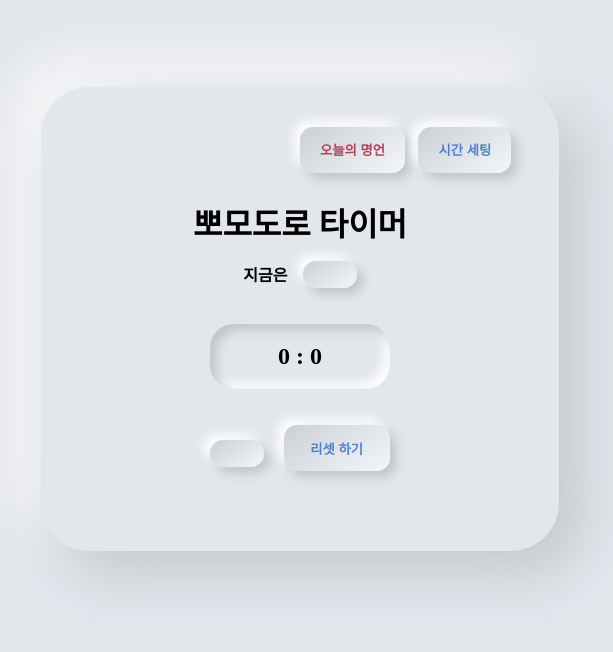
it: App 시간 세팅 버튼이 잘 눌리나 확인하자.
This screenshot has width=613, height=652.
Expected: the heading "뽀모도로 타이머" is shown, [193,207,407,243]
Click the button "시간 세팅": point(465, 150) [418,127,511,173]
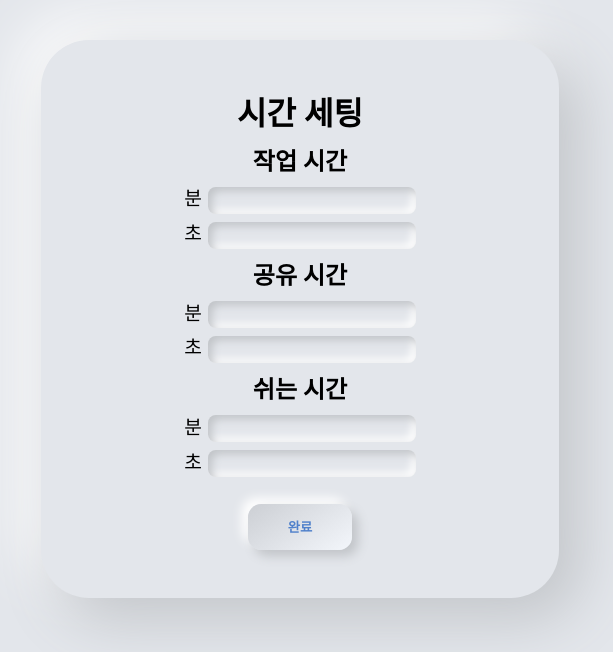
Expected: the heading "작업 시간" is shown, [253,149,347,175]
Expected: the heading "공유 시간" is shown, [253,263,347,289]
Expected: the heading "쉬는 시간" is shown, [253,377,347,403]
